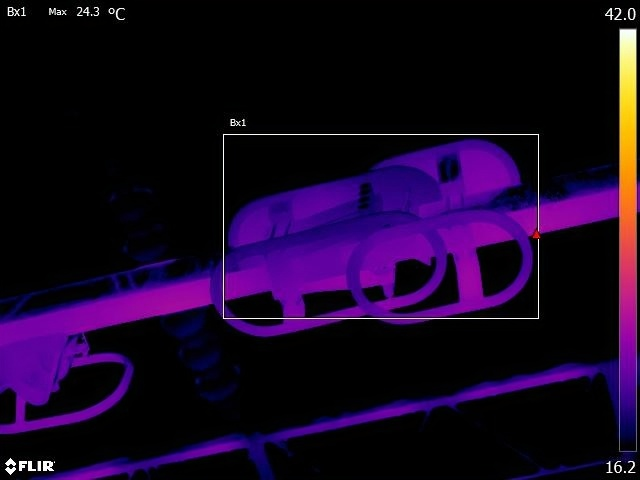switch: (1, 120, 619, 435)
